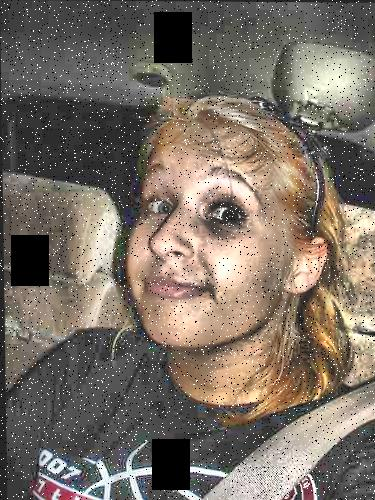seatbelt: (198, 370, 365, 500)
